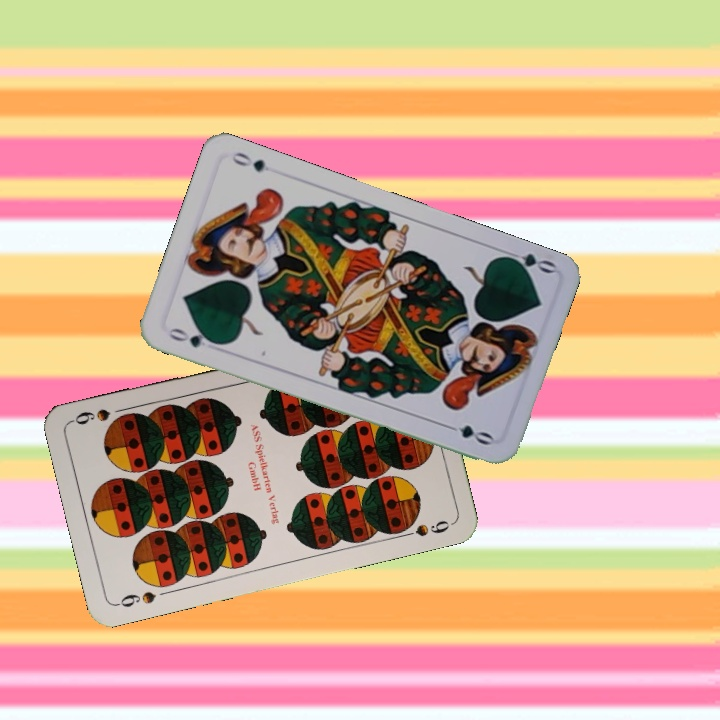GO: (498, 245, 558, 278), (164, 324, 221, 351)
S9: (112, 587, 159, 610)
